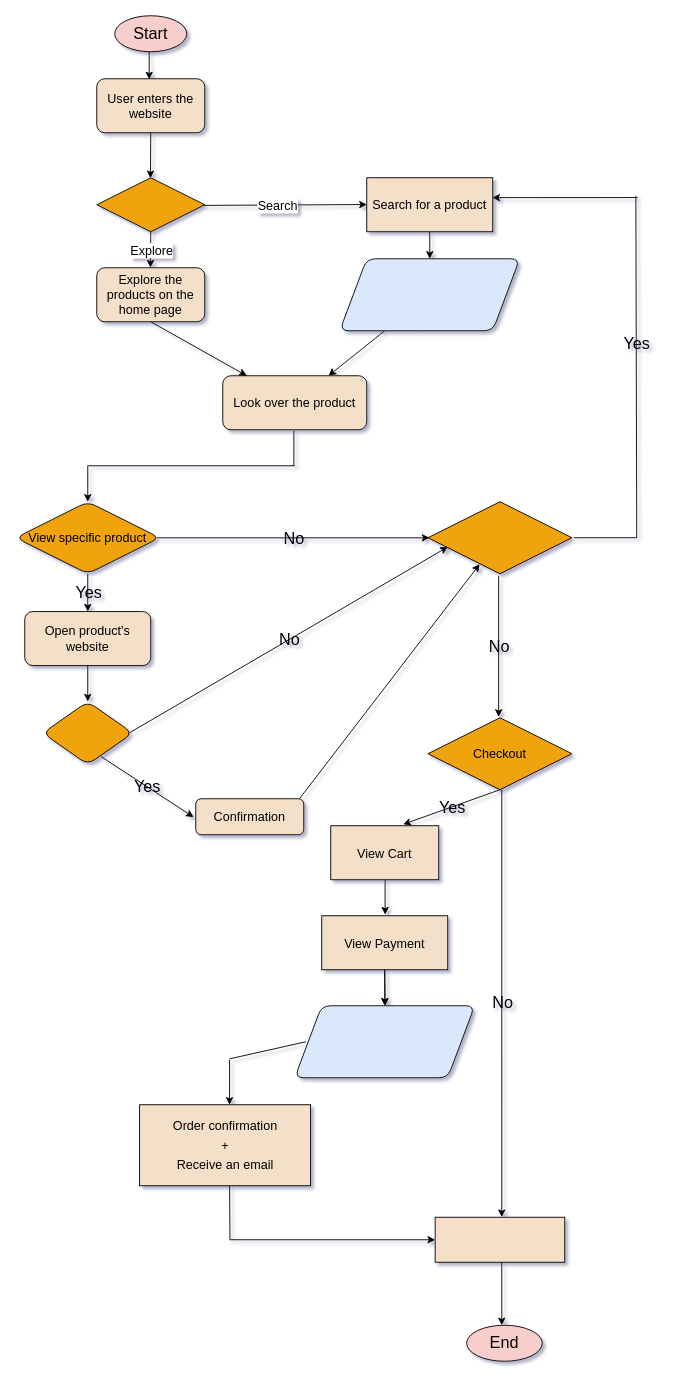
The diagram is 680 pixels wide and 1382 high, and some of its shapes have lost their labels. The centre of each missing label's shape, as x and y in pixels:
"Add to cart" goes at point (87, 733).
"Continue shopping" goes at point (499, 537).
"Input payment information" goes at point (384, 1041).
"Leave the website" goes at point (499, 1239).
"Option" goes at point (150, 204).
"Provide input to website" goes at point (429, 294).
